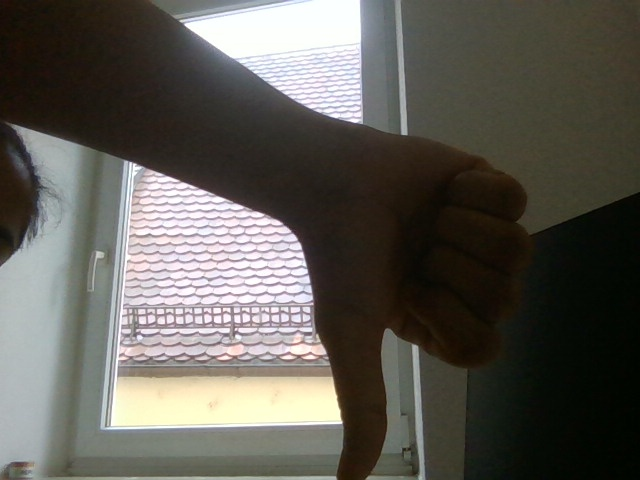thumbs_down: (278, 73, 532, 479)
